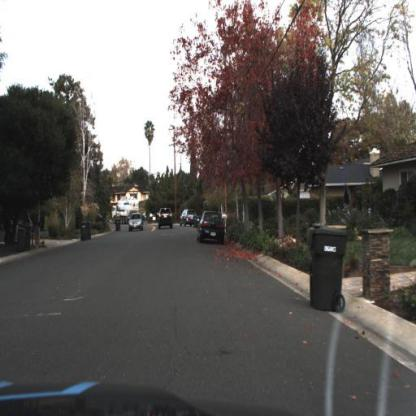car: (195, 209, 227, 245), (157, 206, 176, 231), (180, 208, 198, 227), (130, 210, 144, 233)
truck: (111, 197, 140, 228)
